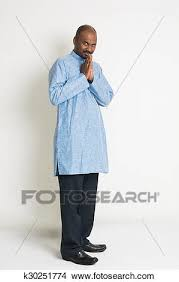Indian_Male: (77, 28, 99, 64)
